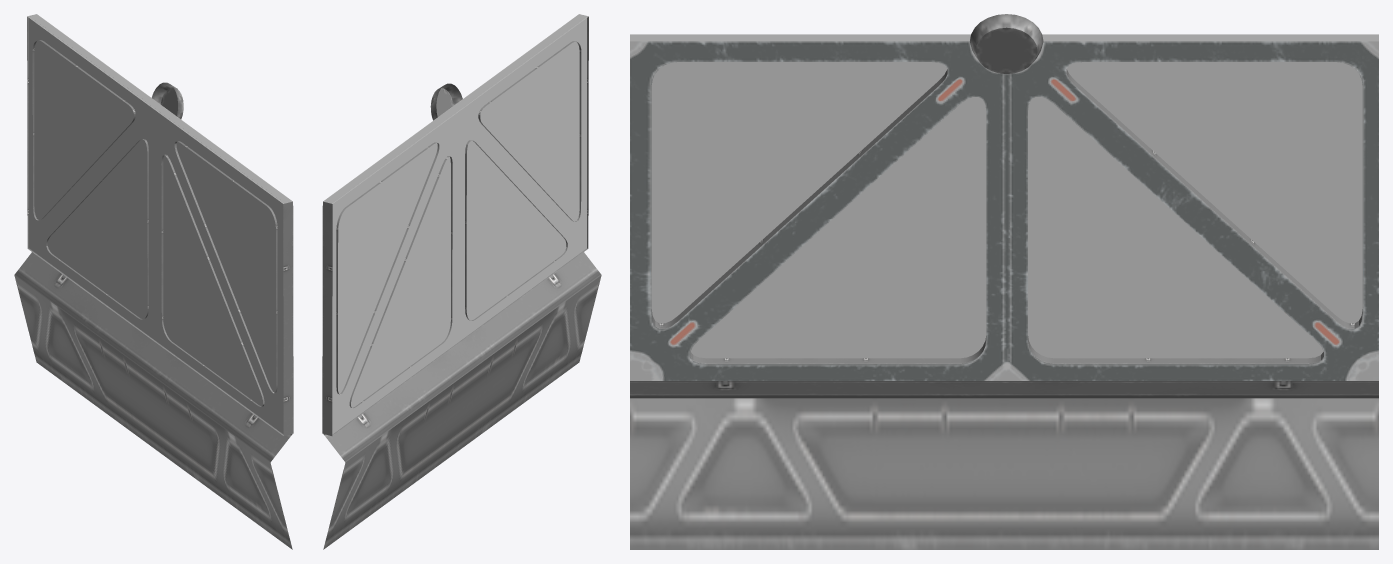
File: town-window-B9E3uGp8.glb
3 views of the same model, side by side, from view 1: azimuth 30°, elevation 25°; view 2: azimuth 150°, elevation 25°; view 3: azimuth 270°, elevation 25° (orthographic). The views are drawn at different scales.
Visible parts, largest first — view 1: WallWindow_Straight; view 2: WallWindow_Straight; view 3: WallWindow_Straight.
Boxes of the visible parts, x1,y1,x2,y2 form: WallWindow_Straight: (14, 14, 293, 549); WallWindow_Straight: (322, 14, 601, 549); WallWindow_Straight: (630, 14, 1378, 549).
Bounding box in the file's own units: 0.3198 × 3.19 × 4.
Materials: 4 (3 with a texture image).
